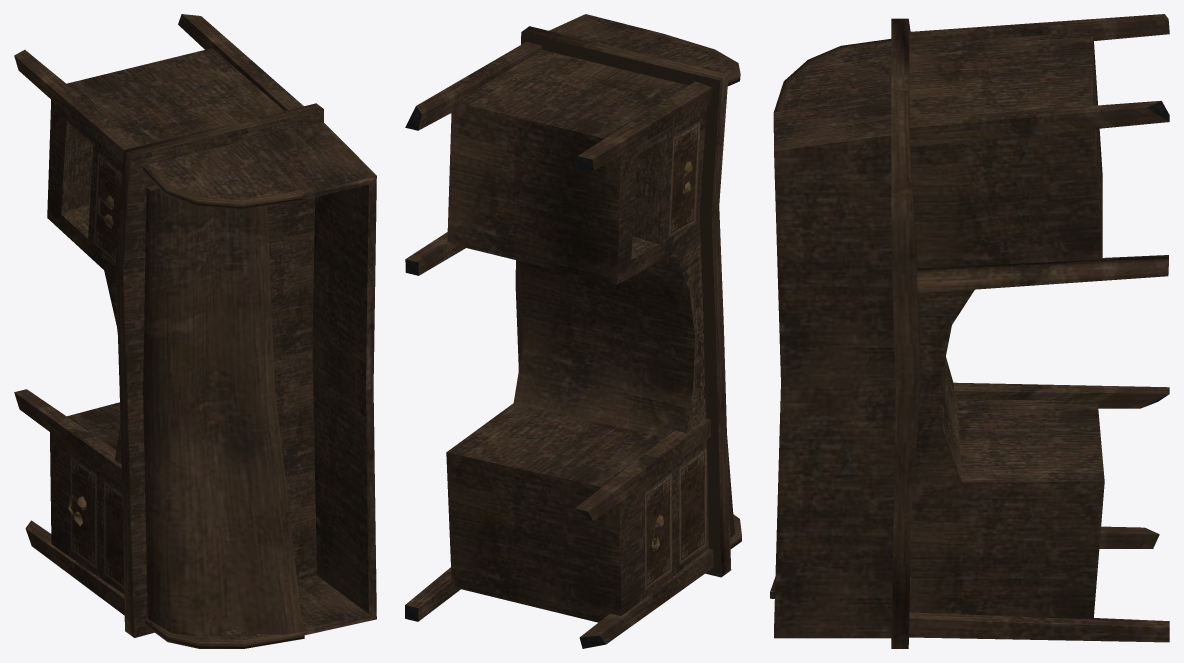
File: furniture_rolltopdesk_d.glb
3 renders of one model, left to right at view 1: azimuth 30°, elevation 25°; view 2: azimuth 150°, elevation 25°; view 3: azimuth 270°, elevation 25°, orthographic. The views are drawn at different scales.
Size of the model in its own units: 31.69 by 77.2 by 51.99.
Materials: 1 (1 with a texture image).
